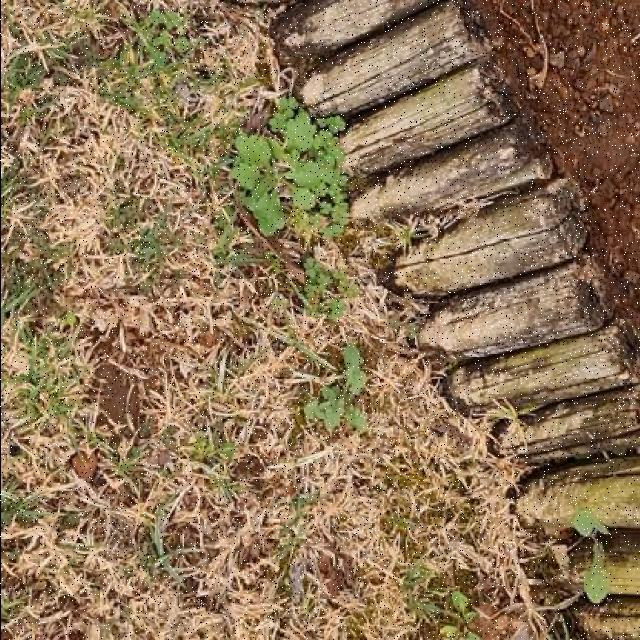weed: (229, 97, 345, 235)
